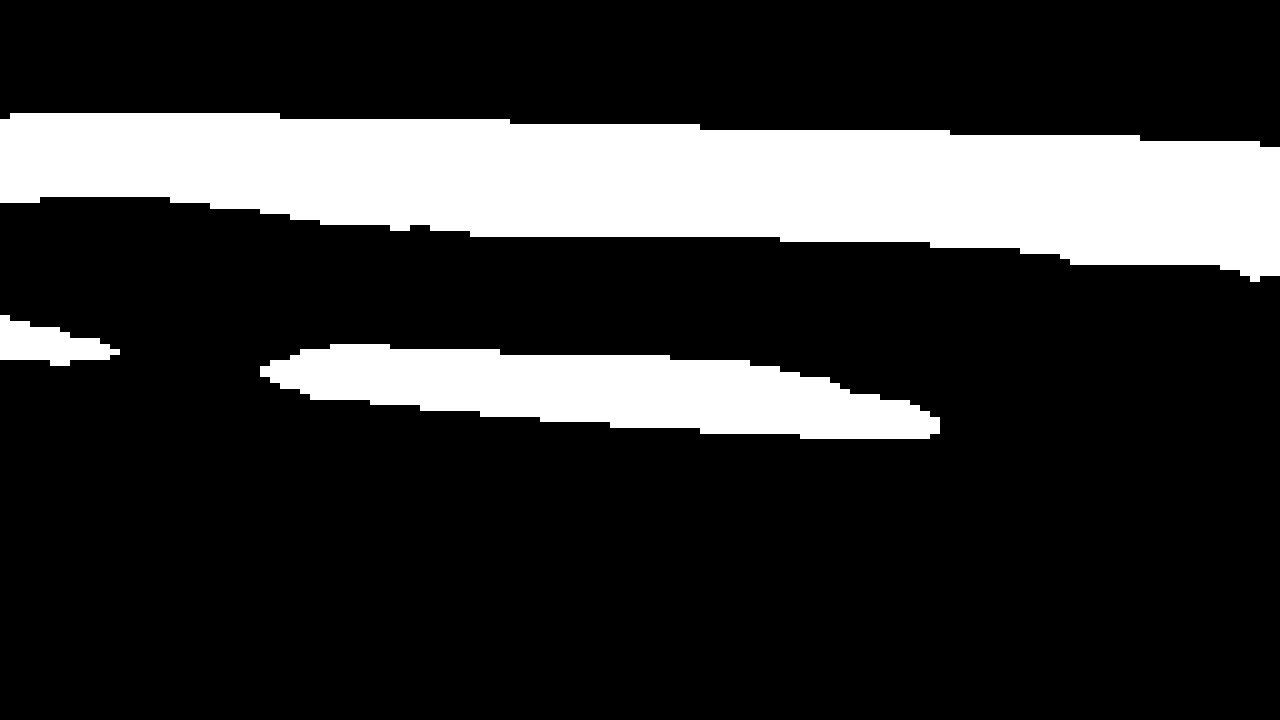Turbine: (8, 96, 1271, 472)
